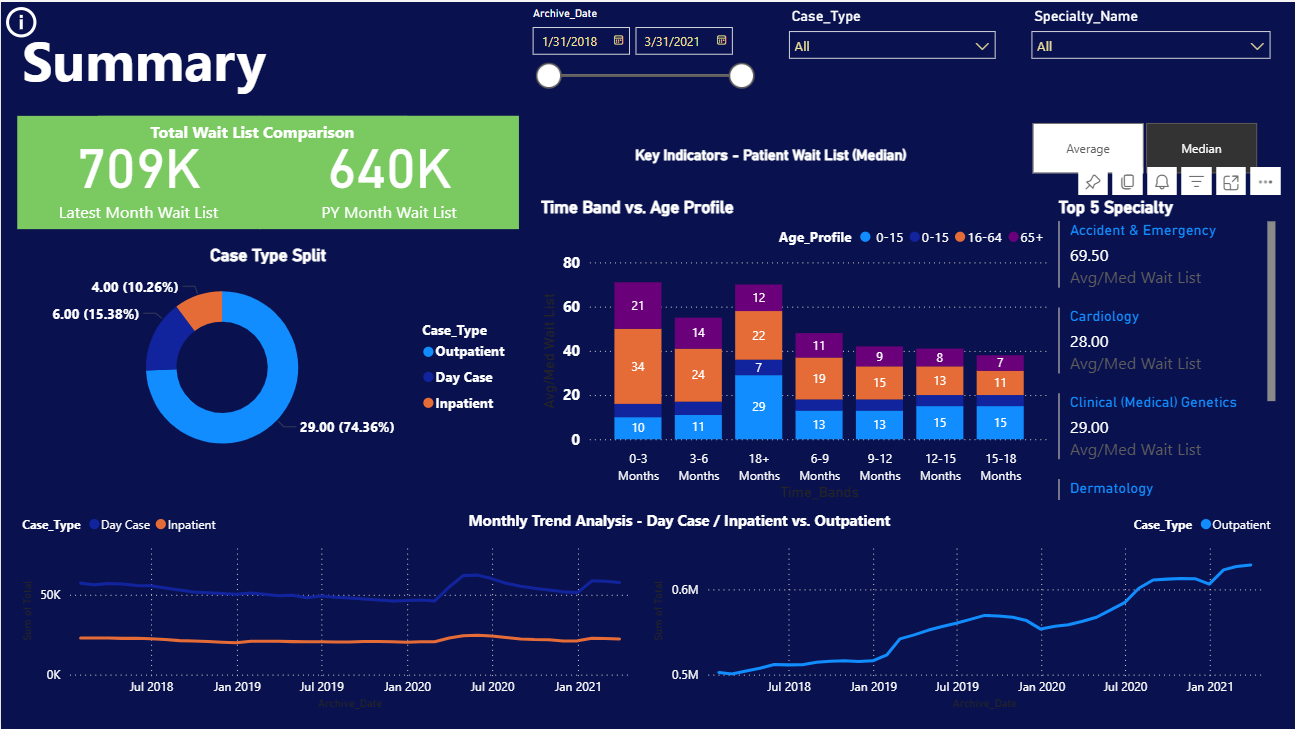

Layout of this report page (visuals, bound fields, positions):
{"tool":"powerbi","page":{"name":"Summary","canvas":[1280,720],"ordinal":0},"visuals":[{"type":"card","fields":{"Values":["All_Data.Latest Month Wait List"]},"box":[16,112,240,112],"z":0},{"type":"card","fields":{"Values":["All_Data.PY Month Wait List"]},"box":[256,112,256,112],"z":1000},{"type":"slicer","fields":{"Values":["Table.Calc Method"]},"box":[992,112,272,64],"z":2000},{"type":"donutChart","title":"Case Type Split","fields":{"Category":["All_Data.Case_Type"],"Y":["All_Data.Avg/Med Wait List"]},"box":[16,240,496,224],"z":3000},{"type":"columnChart","title":"Time Band vs. Age Profile","fields":{"Category":["All_Data.Time_Bands"],"Y":["All_Data.Avg/Med Wait List"],"Series":["All_Data.Age_Profile"]},"box":[528,192,512,304],"z":4000},{"type":"multiRowCard","title":"Top 5 Specialty","fields":{"Values":["All_Data.Specialty_Name","All_Data.Avg/Med Wait List"]},"box":[1040,192,224,304],"z":5000},{"type":"lineChart","fields":{"Category":["All_Data.Archive_Date"],"Y":["Sum(All_Data.Total)"],"Series":["All_Data.Case_Type"]},"box":[16,496,624,208],"z":6000},{"type":"lineChart","fields":{"Category":["All_Data.Archive_Date"],"Y":["Sum(All_Data.Total)"],"Series":["All_Data.Case_Type"]},"box":[640,496,624,208],"z":7000},{"type":"slicer","fields":{"Values":["All_Data.Archive_Date"]},"box":[512,0,240,96],"z":8000},{"type":"slicer","fields":{"Values":["All_Data.Case_Type"]},"box":[768,0,224,96],"z":9000},{"type":"slicer","fields":{"Values":["All_Data.Specialty_Name"]},"box":[1008,0,256,96],"z":10000},{"type":"textbox","box":[16,16,384,96],"z":11000},{"type":"textbox","box":[96,112,304,32],"z":12000},{"type":"textbox","box":[400,496,544,32],"z":13000},{"type":"card","fields":{"Values":["All_Data.Dynamic Title"]},"box":[528,128,464,48],"z":14000},{"type":"actionButton","box":[0,0,100,40],"z":15000}]}

Visuals, with their boxes in screenshot pixels (x1, y1, x2, y2), scaled from the page's 1280x720 canvas onto the 1295x729 screenshot:
card - All_Data.Latest Month Wait List: (left=16, top=113, right=259, bottom=227)
card - All_Data.PY Month Wait List: (left=259, top=113, right=518, bottom=227)
slicer - Table.Calc Method: (left=1004, top=113, right=1279, bottom=178)
"Case Type Split" donutChart: (left=16, top=243, right=518, bottom=470)
"Time Band vs. Age Profile" columnChart: (left=534, top=194, right=1052, bottom=502)
"Top 5 Specialty" multiRowCard: (left=1052, top=194, right=1279, bottom=502)
lineChart - All_Data.Archive_Date x Sum(All_Data.Total): (left=16, top=502, right=648, bottom=713)
lineChart - All_Data.Archive_Date x Sum(All_Data.Total): (left=648, top=502, right=1279, bottom=713)
slicer - All_Data.Archive_Date: (left=518, top=0, right=761, bottom=97)
slicer - All_Data.Case_Type: (left=777, top=0, right=1004, bottom=97)
slicer - All_Data.Specialty_Name: (left=1020, top=0, right=1279, bottom=97)
textbox: (left=16, top=16, right=405, bottom=113)
textbox: (left=97, top=113, right=405, bottom=146)
textbox: (left=405, top=502, right=955, bottom=535)
card - All_Data.Dynamic Title: (left=534, top=130, right=1004, bottom=178)
actionButton: (left=0, top=0, right=101, bottom=40)
